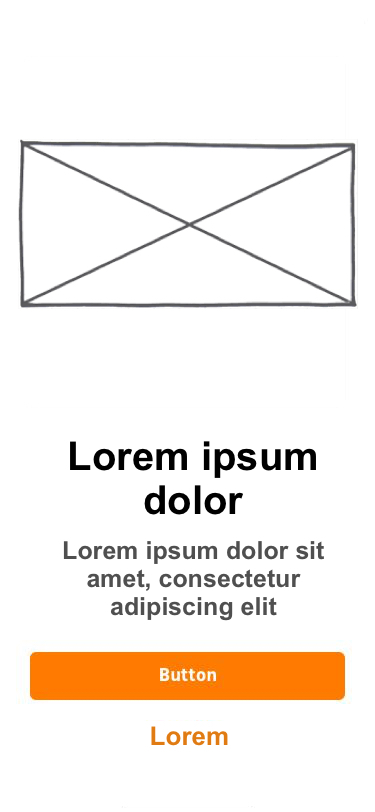Image: (19, 139, 358, 309)
Text: (63, 540, 325, 622), (69, 441, 317, 516), (151, 725, 229, 746)
TextButton: (30, 651, 346, 701)
